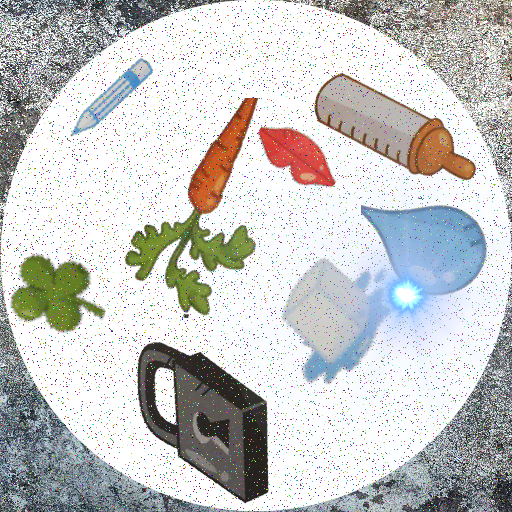bottle_icon: (304, 42, 486, 224)
carrot_icon: (81, 98, 301, 318)
cloverleaf_icon: (2, 250, 106, 354)
cube_icon: (254, 239, 402, 387)
lips_icon: (254, 106, 347, 199)
lock_icon: (117, 335, 294, 512)
pen_icon: (65, 52, 157, 144)
raindrop_icon: (361, 177, 491, 307)
